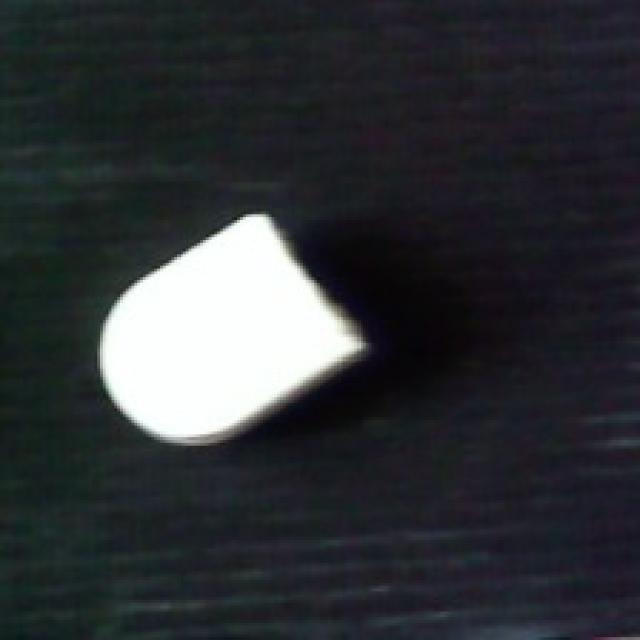defected: (94, 212, 380, 452)
